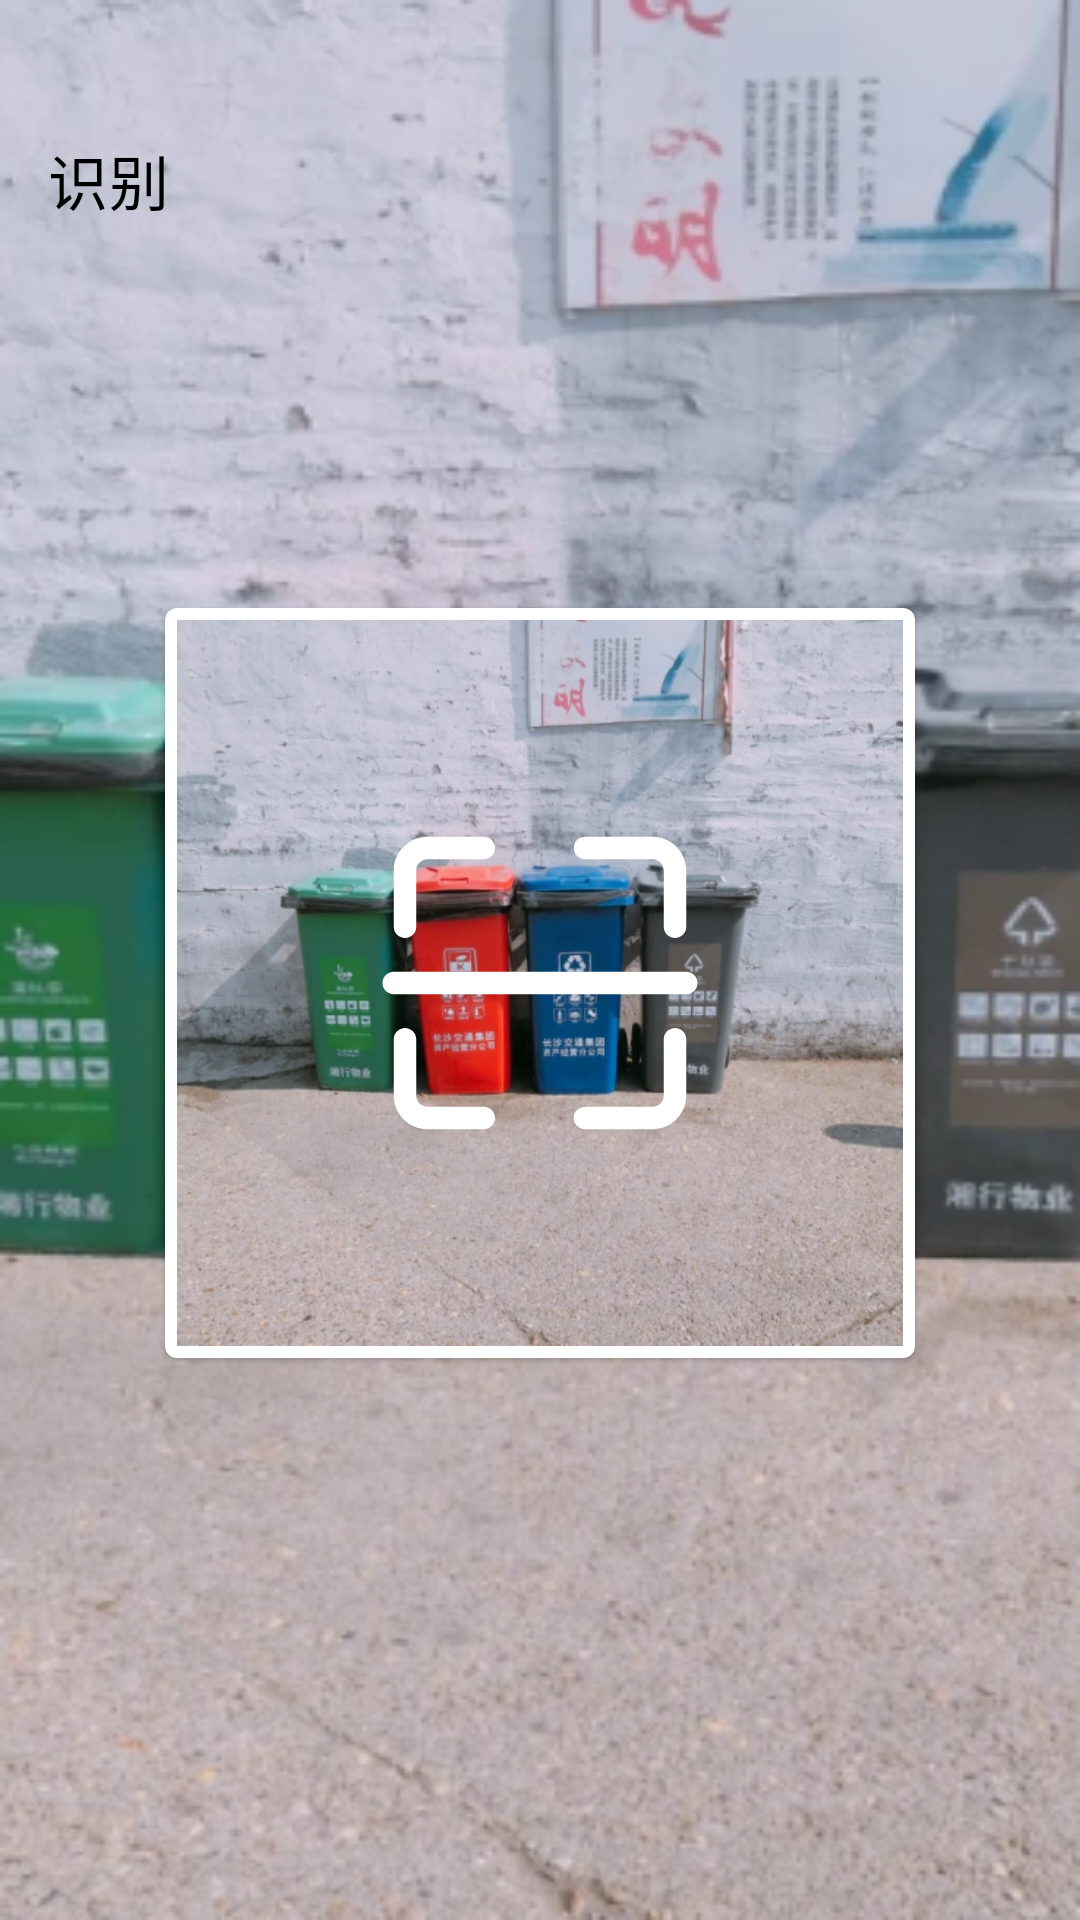

Point at icon controls on the screen. Image size 1080×1920, points as (x,y).
discern: (540,983)
